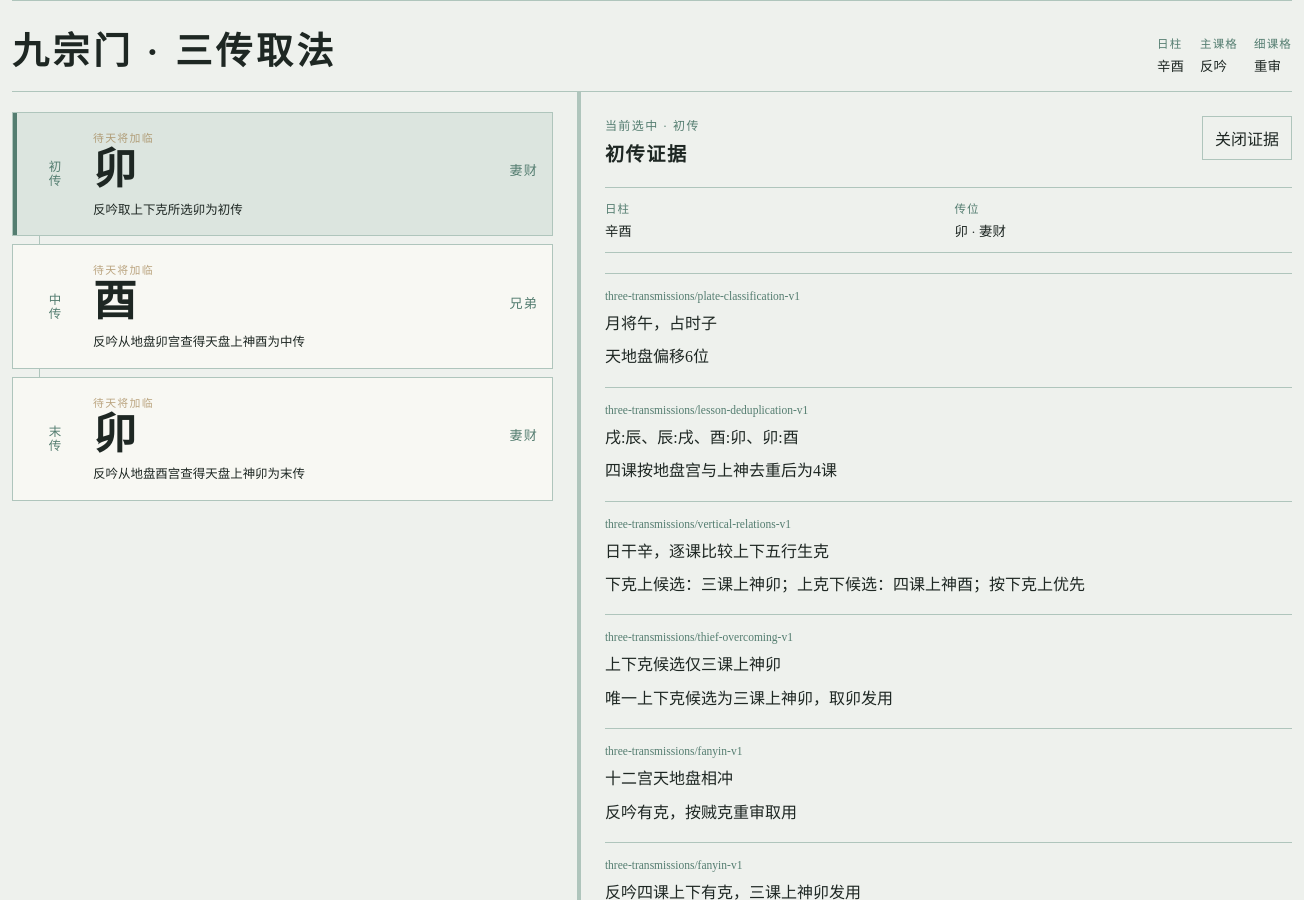
Test: ThreeTransmissionsReview › returns focus to the initial transmission when initially-open evidence closes
The image size is (1304, 900).
Step 1. Click the button "关闭证据" → (1247, 138), box [1202,116,1292,160]
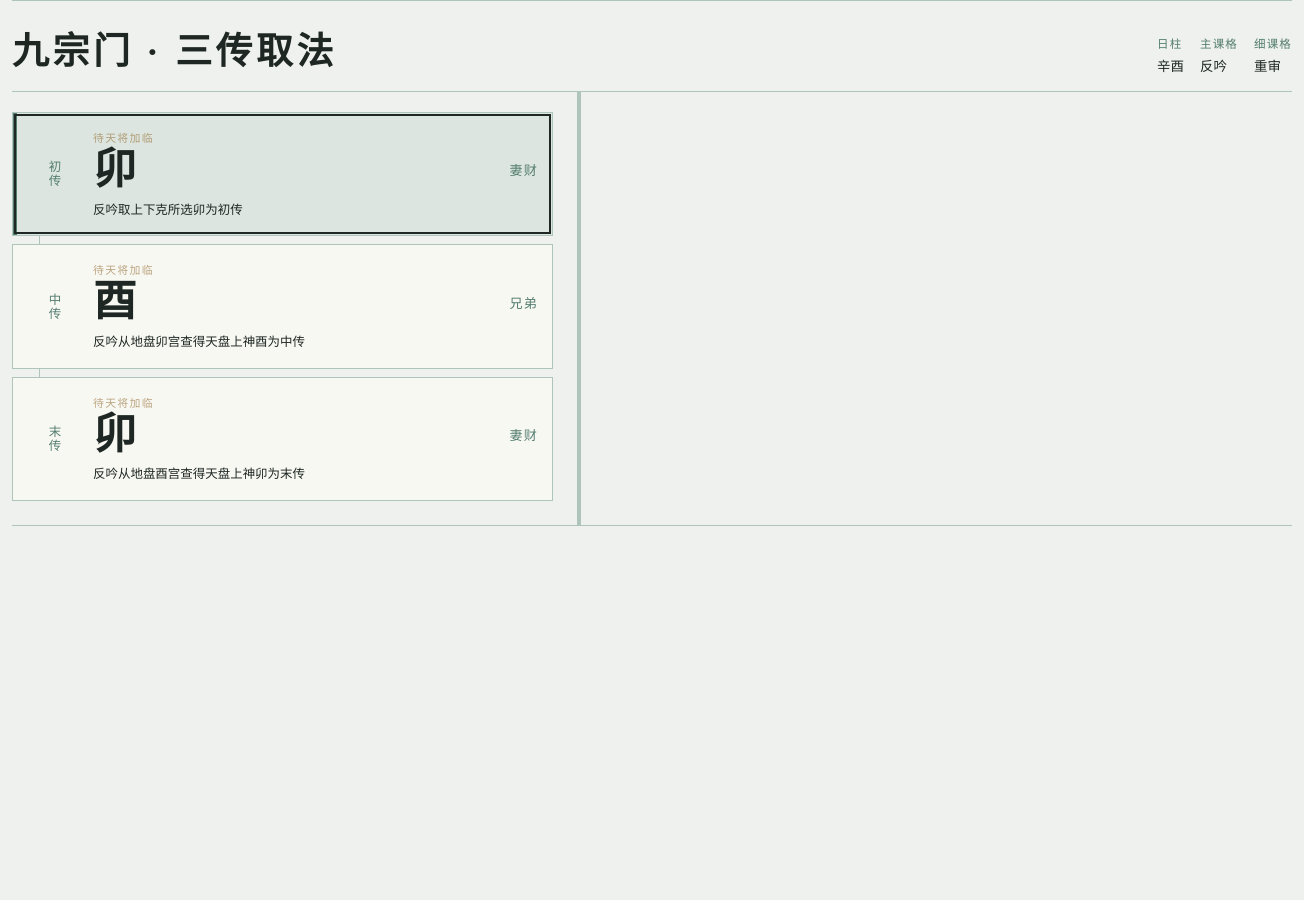
Expected: the button "初传" is collapsed, [12,112,553,236]
